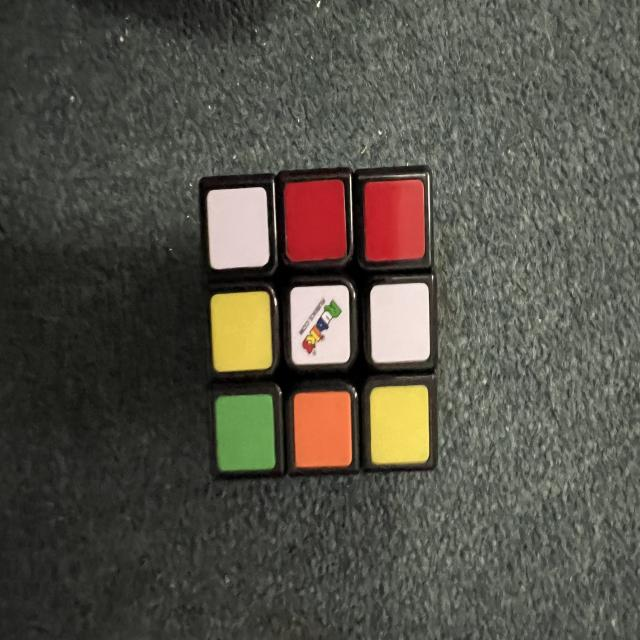center: (288, 284, 352, 366)
green: (214, 394, 276, 472)
orange: (293, 391, 352, 469)
red: (282, 179, 348, 262), (363, 179, 426, 262)
white: (205, 187, 271, 270), (369, 282, 431, 364)
yellow: (209, 291, 273, 373), (369, 384, 430, 465)
